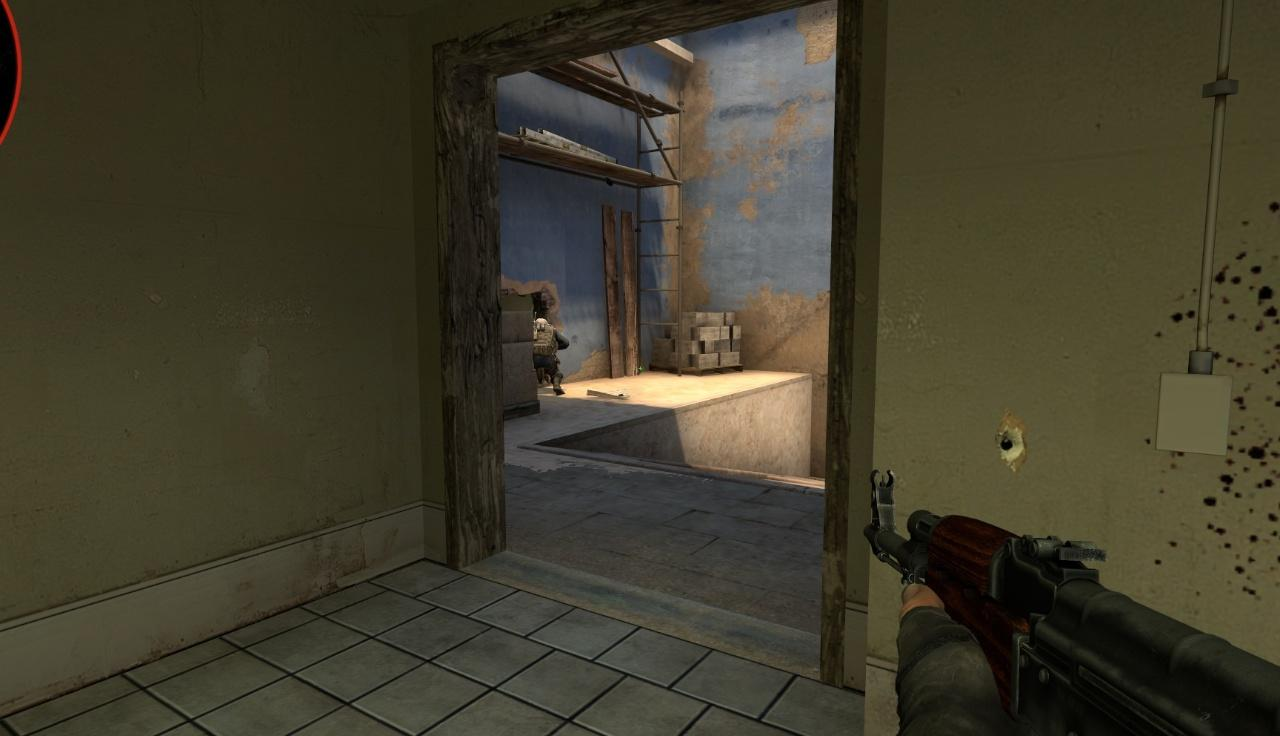ct: (534, 318, 569, 396)
rifle: (865, 469, 1280, 736)
